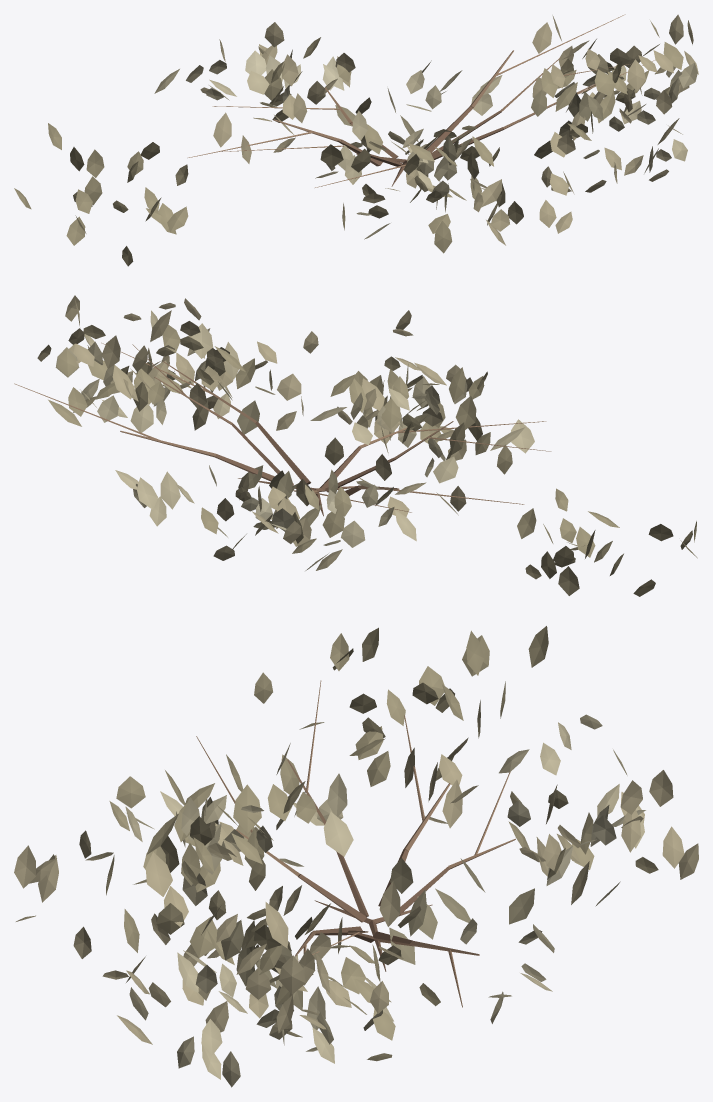
The model's file is bush_3d_04_golden_beige.glb.
The picture shows the model from 3 angles, top to bottom: view 1: azimuth 30°, elevation 25°; view 2: azimuth 150°, elevation 25°; view 3: azimuth 270°, elevation 25°; orthographic projection. The views are drawn at different scales.
Visible parts, largest first — view 1: bush_3d_04_golden_beige_foliage, bush_3d_04_golden_beige_wood; view 2: bush_3d_04_golden_beige_foliage, bush_3d_04_golden_beige_wood; view 3: bush_3d_04_golden_beige_foliage, bush_3d_04_golden_beige_wood.
Boxes of the visible parts, <box> form: bush_3d_04_golden_beige_foliage: <box>14,14,698,266</box>; bush_3d_04_golden_beige_wood: <box>188,14,655,187</box>; bush_3d_04_golden_beige_foliage: <box>37,295,697,596</box>; bush_3d_04_golden_beige_wood: <box>14,342,551,516</box>; bush_3d_04_golden_beige_foliage: <box>14,626,698,1087</box>; bush_3d_04_golden_beige_wood: <box>196,680,515,1007</box>.
Bounding box in the file's own units: 3.8 × 0.75 × 2.6.
